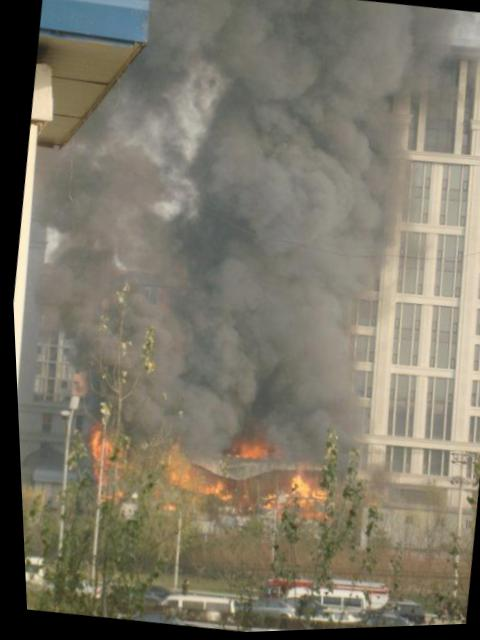fire: (82, 427, 108, 462), (233, 437, 267, 460), (281, 474, 308, 502), (193, 479, 217, 497), (303, 489, 327, 505)
